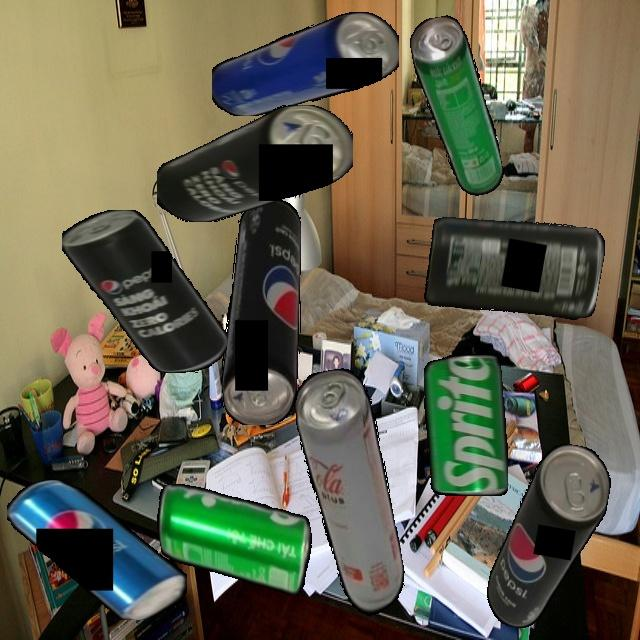debris: (289, 364, 411, 625), (482, 435, 616, 639), (61, 210, 227, 373), (151, 462, 321, 616), (7, 479, 187, 620), (420, 202, 608, 334), (156, 105, 353, 222), (211, 12, 399, 116), (407, 11, 506, 202), (221, 199, 301, 425), (423, 354, 508, 496)
